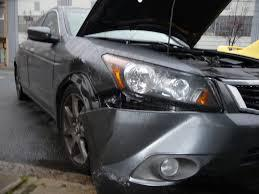front-bumper-dent: (89, 110, 236, 184)
